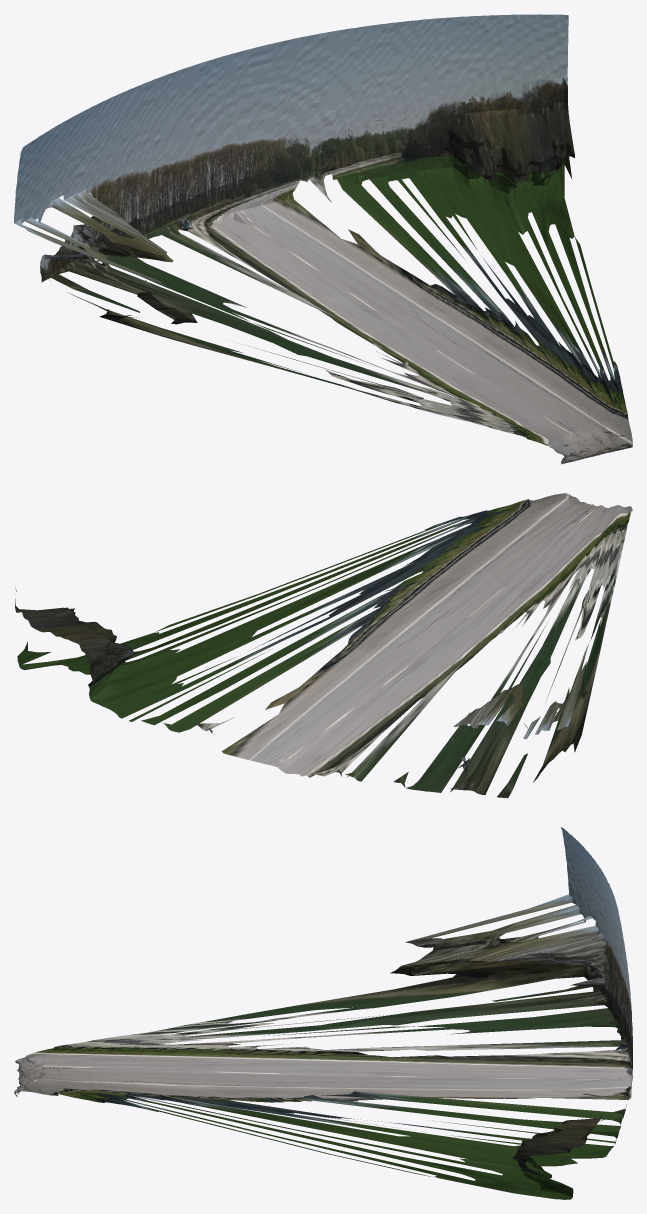
3 renders of one model, top to bottom at view 1: azimuth 30°, elevation 25°; view 2: azimuth 150°, elevation 25°; view 3: azimuth 270°, elevation 25°, orthographic. The views are drawn at different scales.
Visible parts, largest first — view 1: defaultobject; view 2: defaultobject; view 3: defaultobject.
Part boxes in pixels (box(x1,y1,x2,y2)): defaultobject: box(14, 14, 632, 464); defaultobject: box(15, 493, 632, 798); defaultobject: box(14, 827, 632, 1199).
Size of the model in its own units: 41.05 by 12.09 by 44.35.
Materials: 1 (1 with a texture image).
